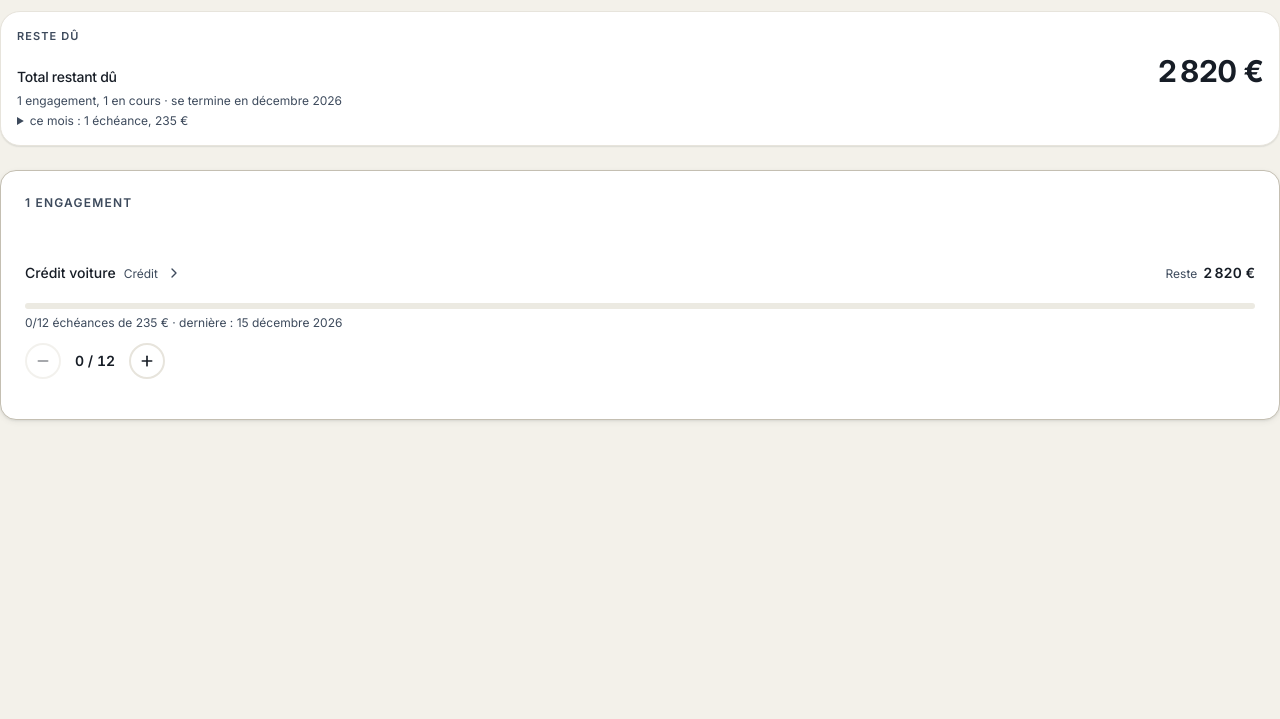
Test: CommitmentsClient — v3 shape › E6: « Modifier » in the drawer closes it and opens the form on that commitment
Click the button with test id "commitment-open-car": (103, 272) top-left (17, 250), bottom-right (190, 294)
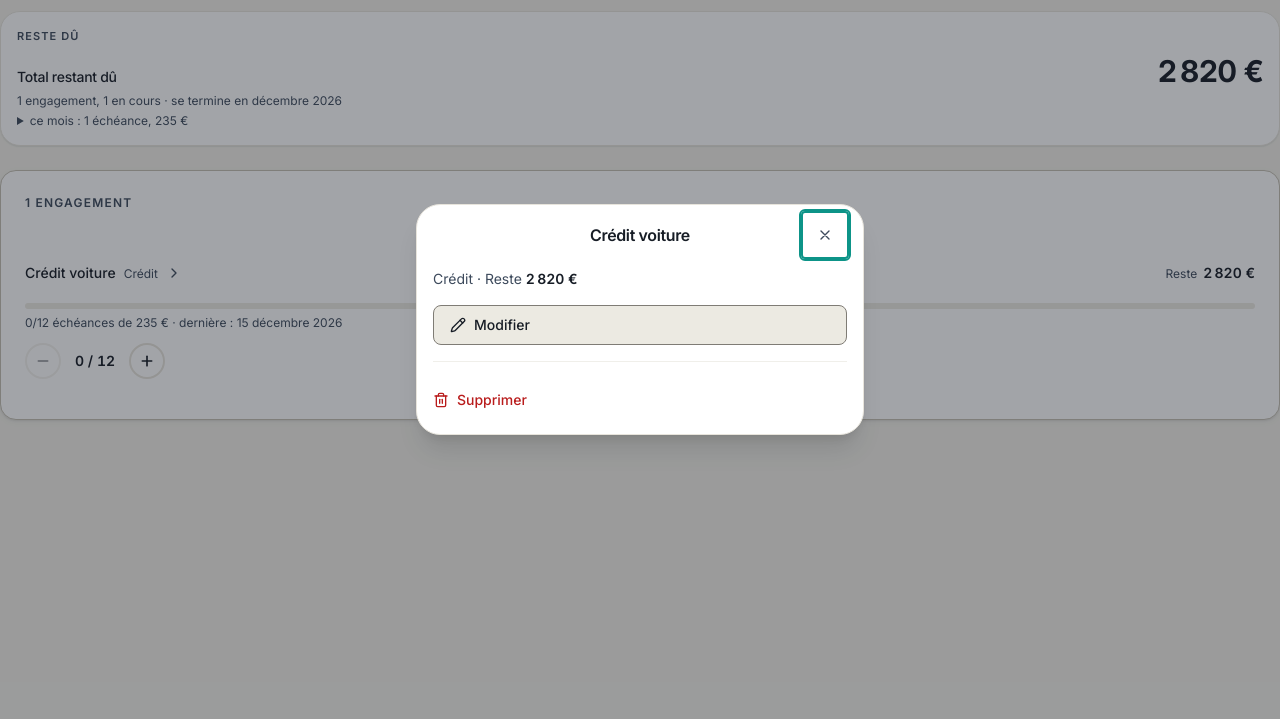
Click the button with test id "commitment-edit-car": (502, 324) top-left (433, 304), bottom-right (847, 344)
(page scrolled)
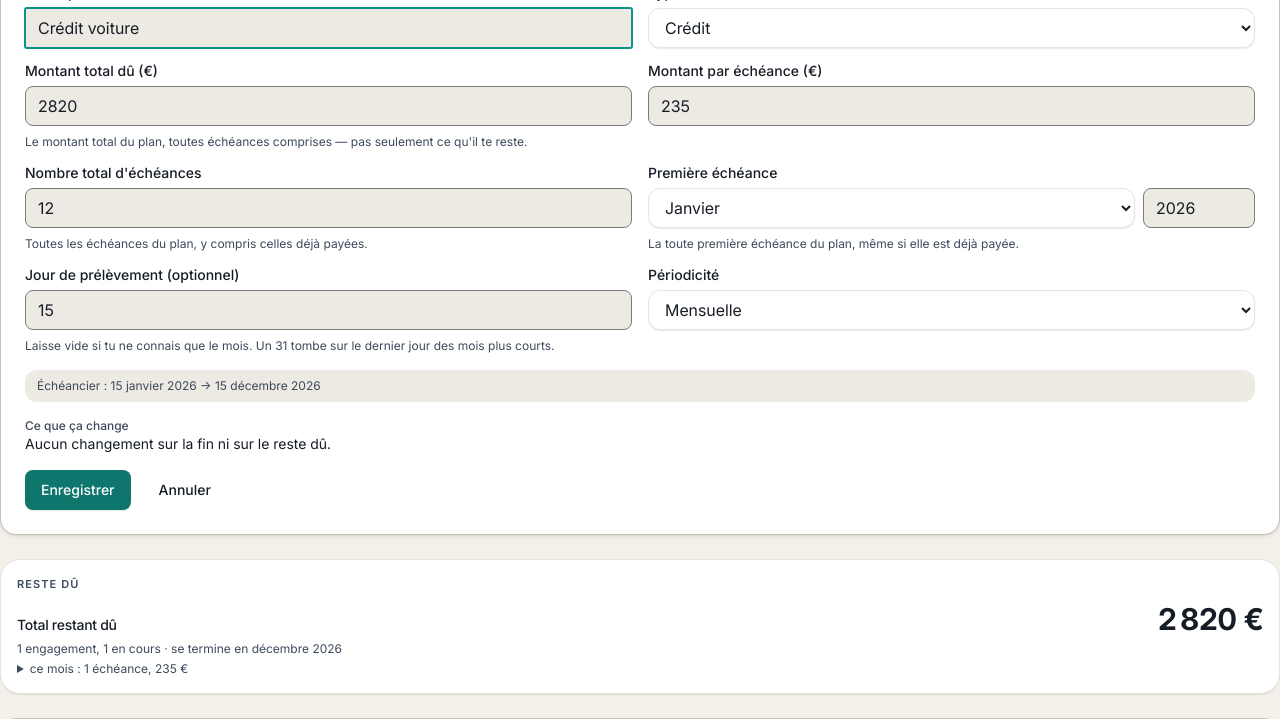
Expected: the dialog with test id "commitment-drawer" is gone
Expected: the field labelled "Description" holds "Crédit voiture", top-left (25, 8), bottom-right (632, 48)
